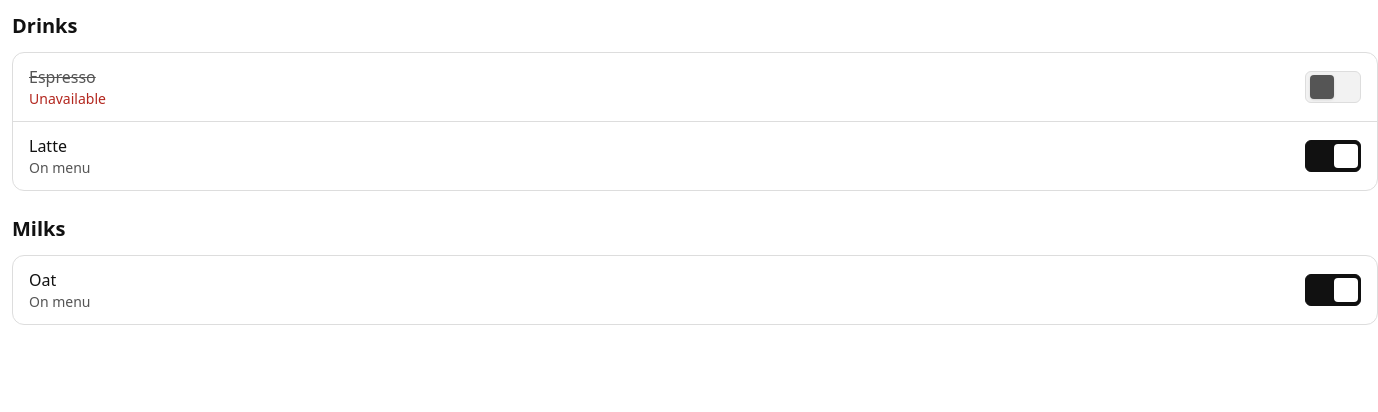
BaristaAvailability › reverts and shows an error on a network failure
Click the switch named "Espresso" in the row of "Espresso" at (1333, 87), box [1305,71,1361,103]
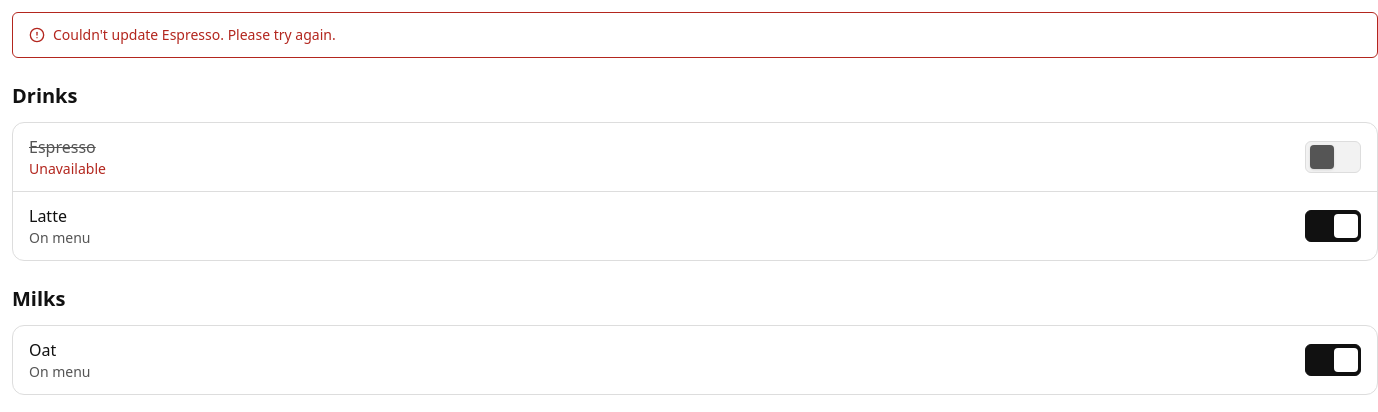
Expected: the message reads "Couldn't update Espresso. Please try again.", [53,25,336,44]
